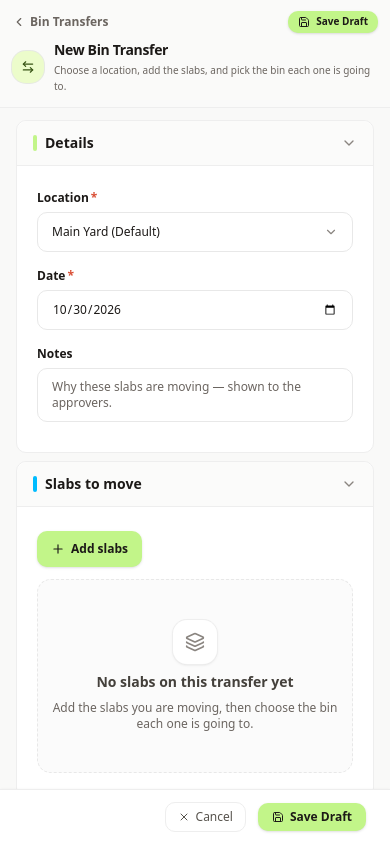
Test: AddBinTransferPage › will not save with no slabs
Click the 1st button "Save Draft".
click(333, 22)  # box [288,11,378,33]
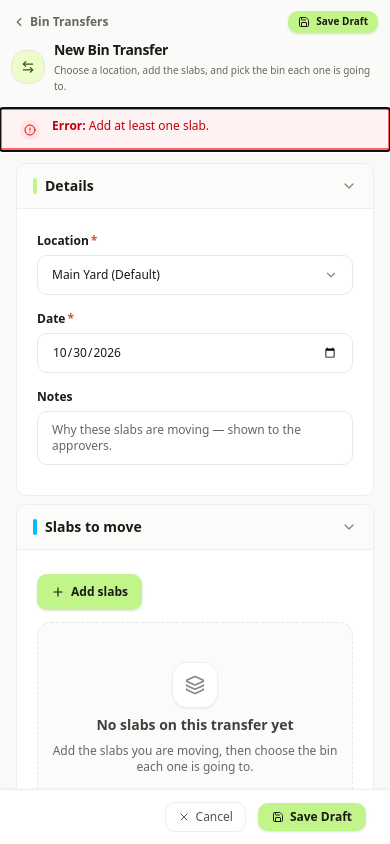
Now the message shows "Add at least one slab.", box [89,116,209,134]
